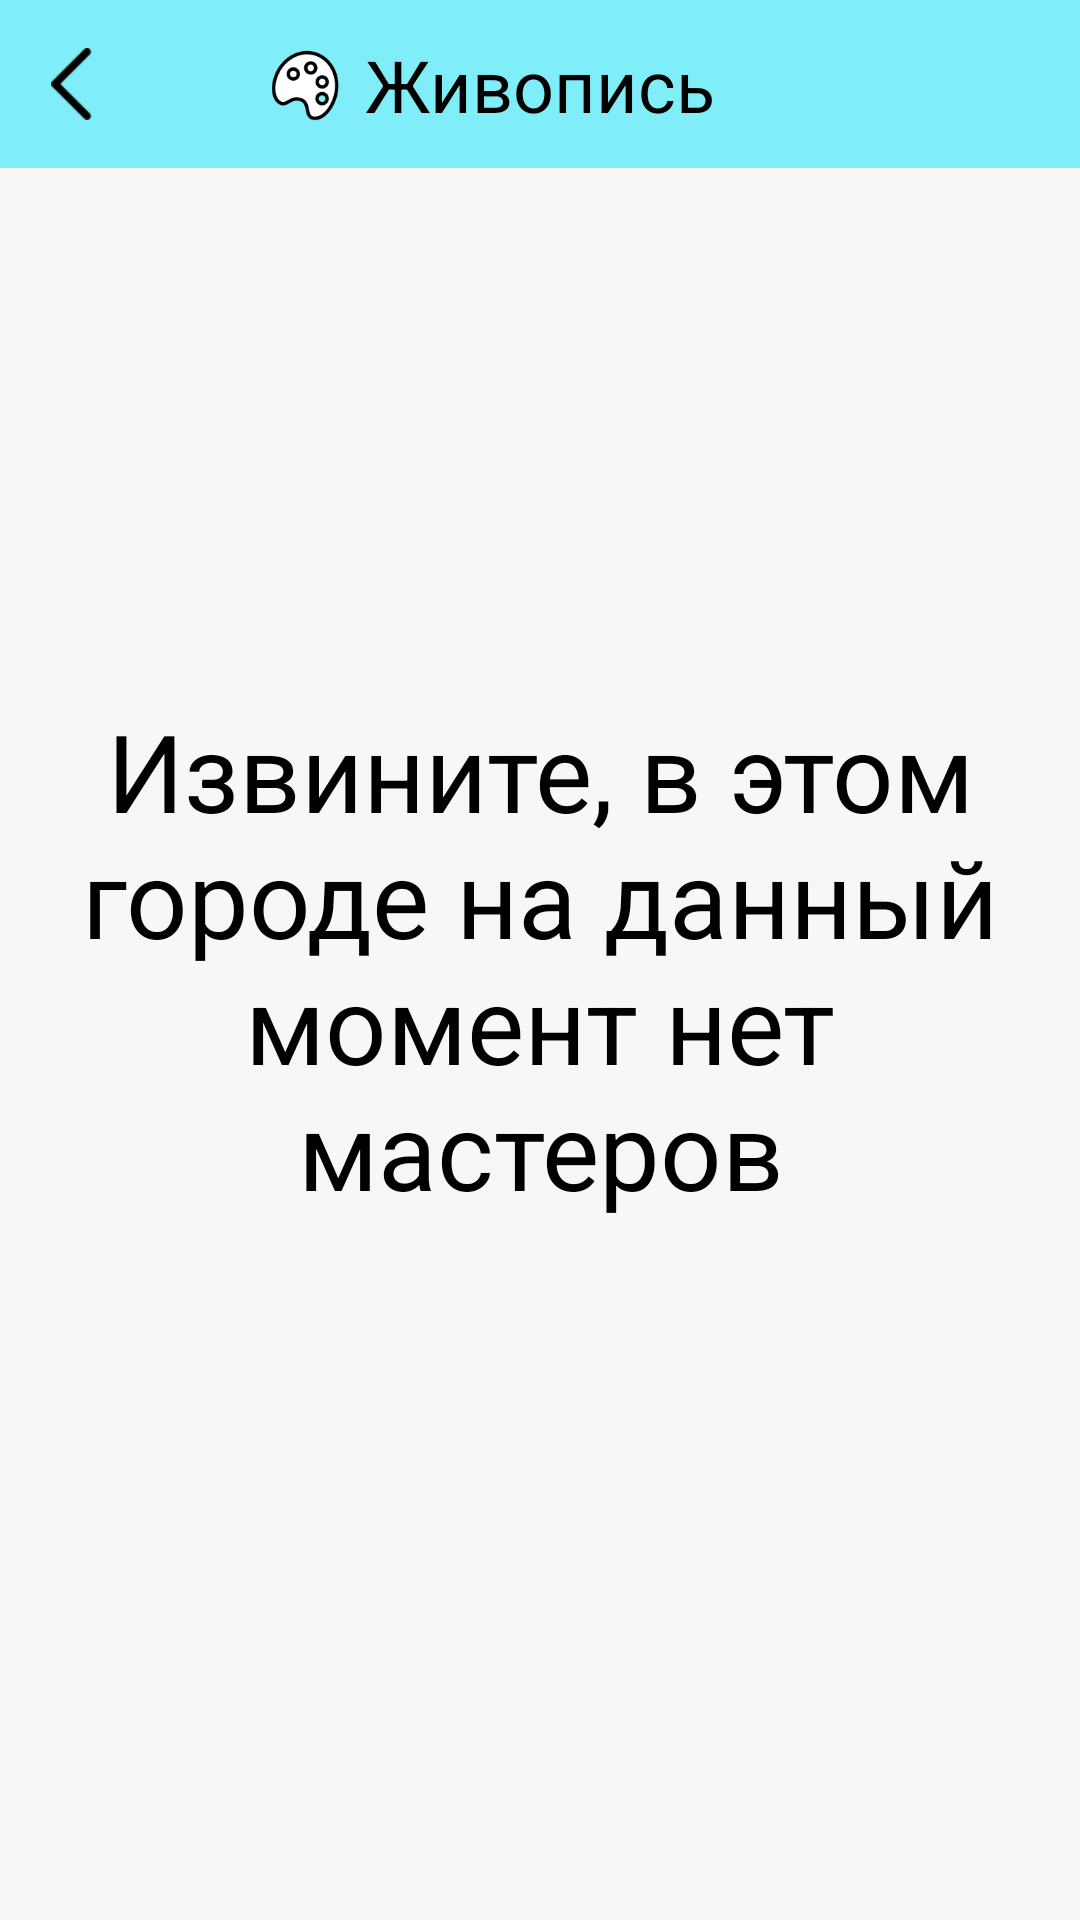

Icons on this 1080*1920 Android screen, each with the point to tap as (x=x, y=y):
arrow back: (x=71, y=84)
art: (x=305, y=85)
